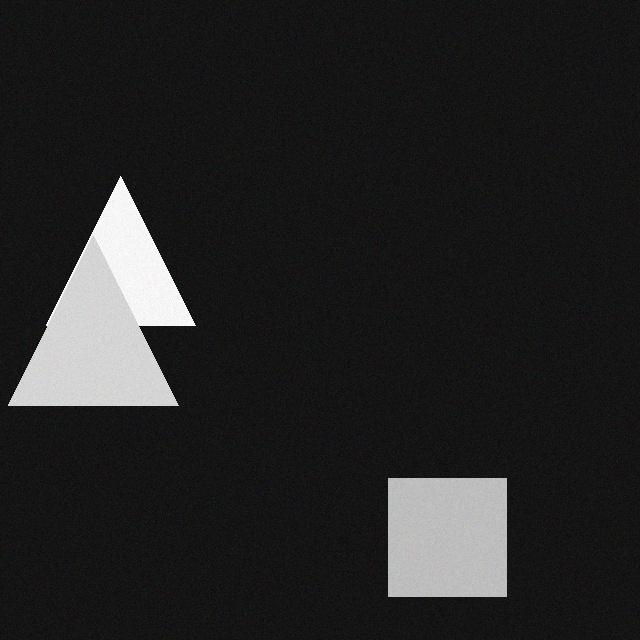square: (393, 475, 511, 593)
triangle: (13, 232, 183, 402), (51, 173, 200, 322)
